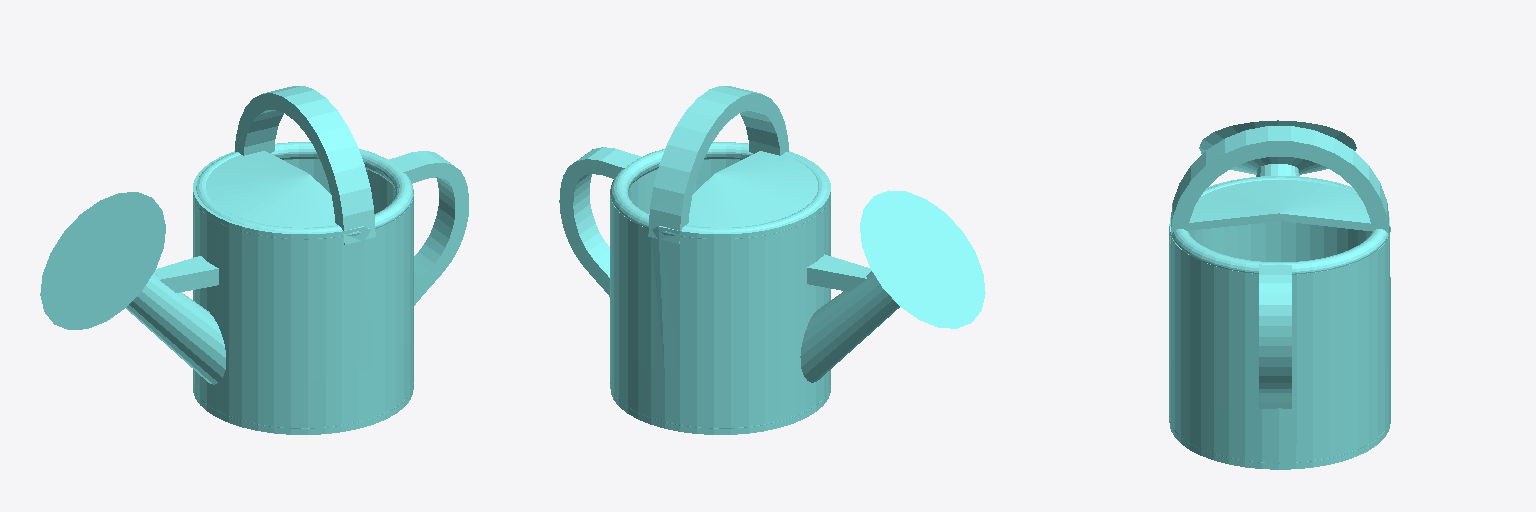
Rendered from penyiram.obj.
3 views of the same model, side by side, from view 1: azimuth 30°, elevation 25°; view 2: azimuth 150°, elevation 25°; view 3: azimuth 270°, elevation 25° (orthographic).
Visible parts, largest first — view 1: Watering_Can_Mesh; view 2: Watering_Can_Mesh; view 3: Watering_Can_Mesh.
Part boxes in pixels (x1,y1,x2,y2): Watering_Can_Mesh: (40, 86, 468, 434); Watering_Can_Mesh: (559, 86, 985, 434); Watering_Can_Mesh: (1169, 120, 1390, 469).
Size of the model in its own units: 0.325 by 0.2243 by 0.1535.